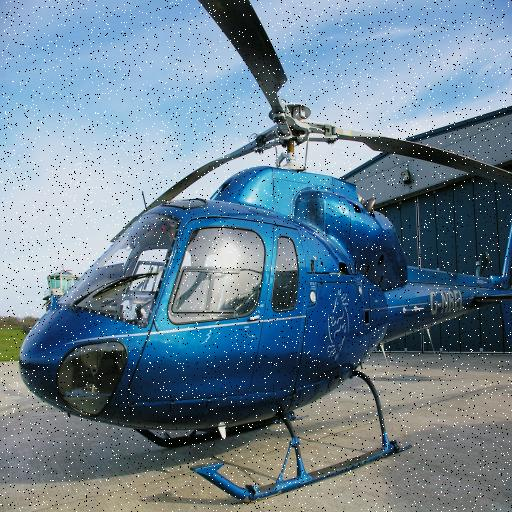helicopter: (8, 1, 512, 509)
